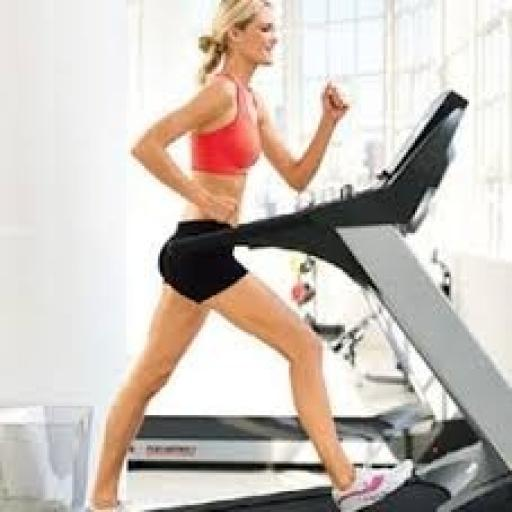running: (77, 0, 417, 510)
